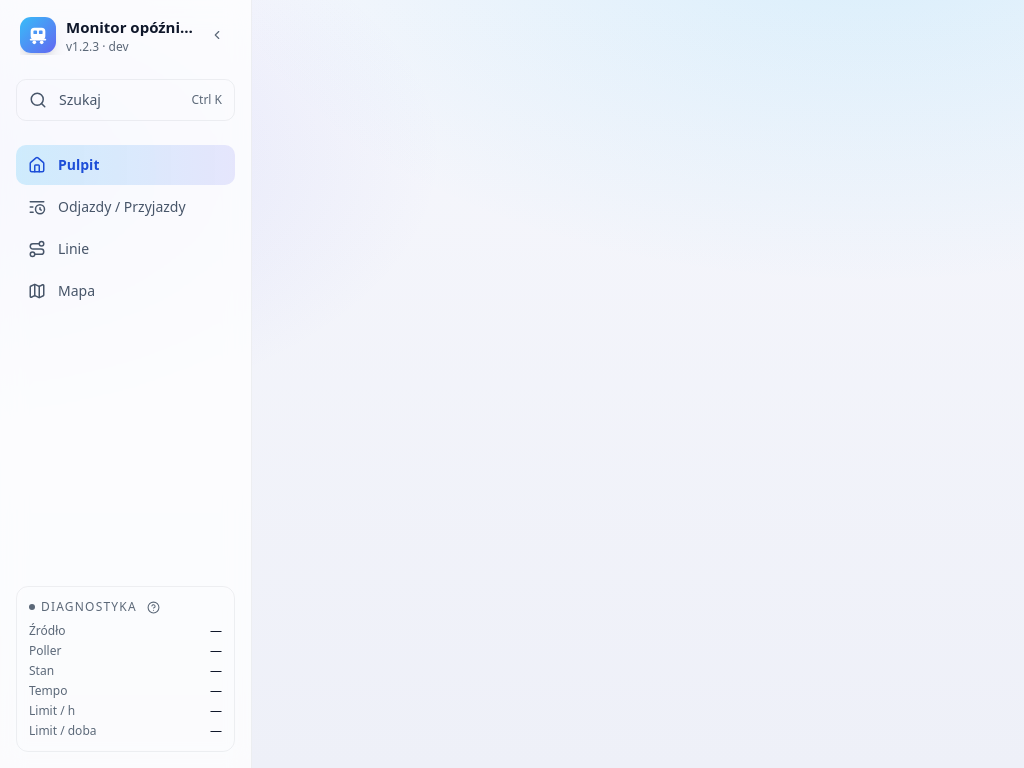
Test: Sidebar › chowa wersję/środowisko razem z nazwą aplikacji, gdy sidebar jest zwinięty
Click the button named "Zwiń pasek boczny": (217, 35) x1=203 y1=21 x2=231 y2=49
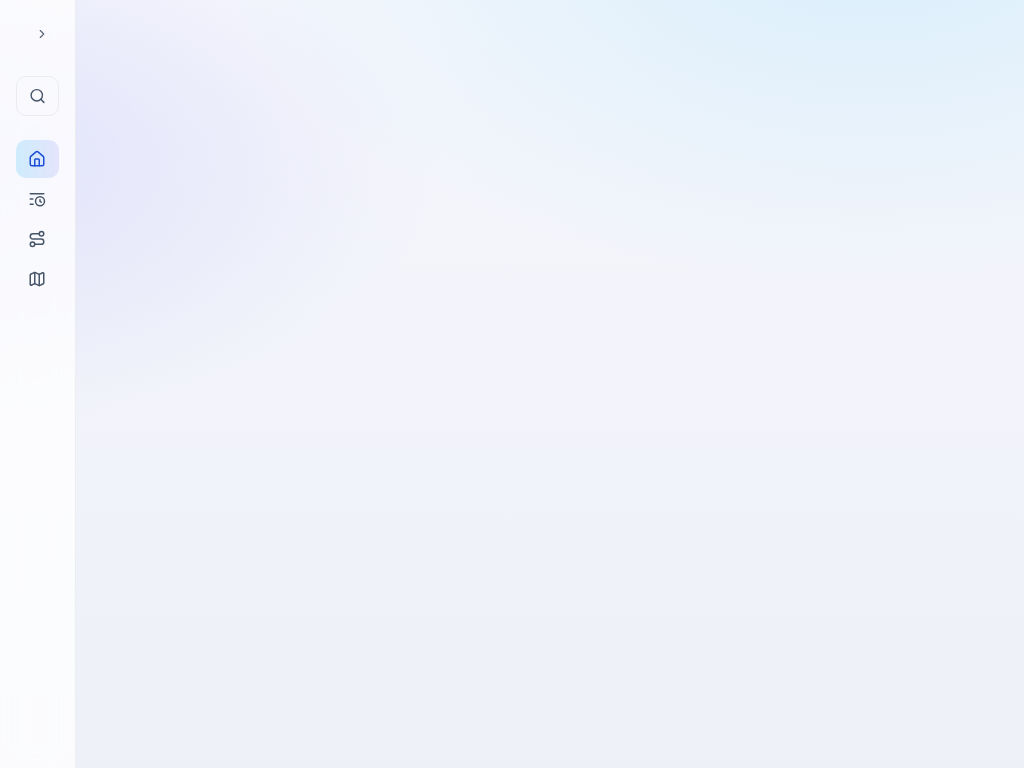
Expected: the text "v1.2.3 · dev" is gone
Expected: the text "Monitor opóźnień" is gone
